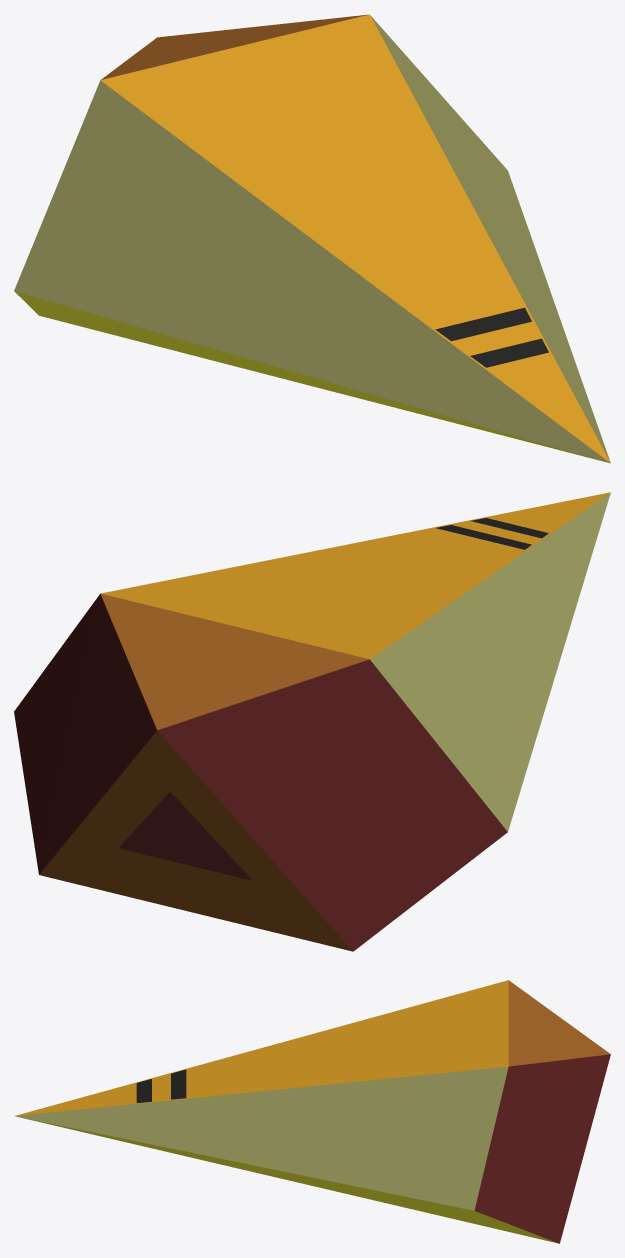
The model's file is arc_anaconda.glb.
The picture shows the model from 3 angles, top to bottom: view 1: azimuth 30°, elevation 25°; view 2: azimuth 150°, elevation 25°; view 3: azimuth 270°, elevation 25°; orthographic projection. The views are drawn at different scales.
Parts seen in each view (by area): view 1: griff_arcelite_anaconda; view 2: griff_arcelite_anaconda, griff_arcelite_anaconda.001; view 3: griff_arcelite_anaconda.
Boxes of the visible parts, x1,y1,x2,y2 form: griff_arcelite_anaconda: [14, 14, 610, 463]; griff_arcelite_anaconda: [14, 492, 610, 951]; griff_arcelite_anaconda.001: [118, 791, 252, 880]; griff_arcelite_anaconda: [14, 980, 610, 1243].
Size of the model in its own units: 1.2 by 0.5976 by 1.9.
Materials: 1 (1 with a texture image).
